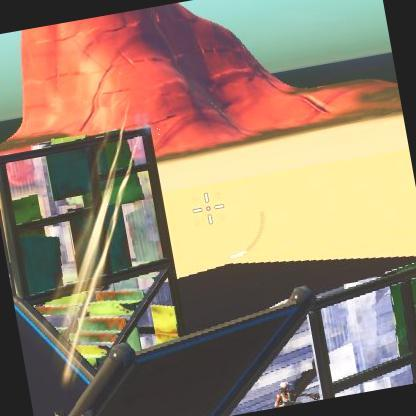person: (268, 380, 297, 407)
